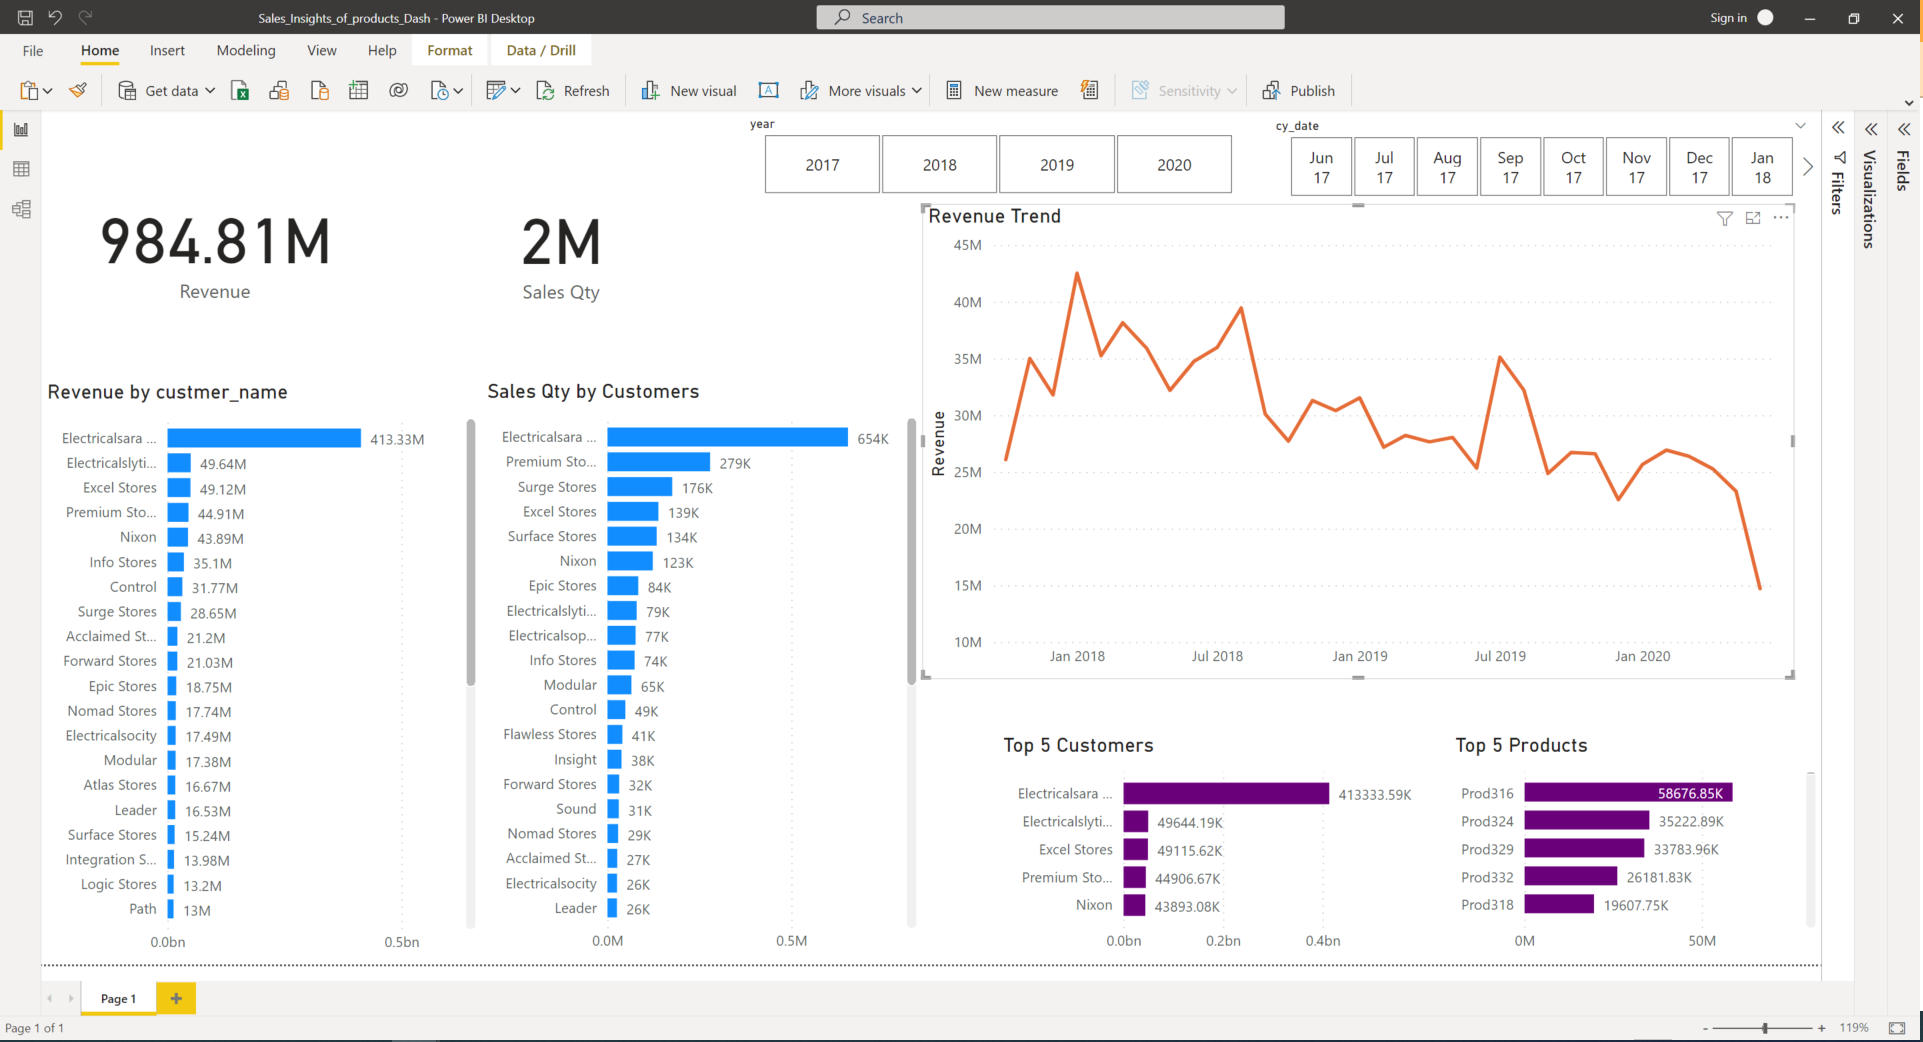

Layout of this report page (visuals, bound fields, positions):
{"tool":"powerbi","page":{"name":"Page 1","canvas":[1280,720],"ordinal":0},"visuals":[{"type":"card","fields":{"Values":["BaseMeasures.Revenue"]},"box":[0,0,292.5,227.3],"z":0},{"type":"card","fields":{"Values":["BaseMeasures.Sales Qty"]},"box":[292.7,1.5,291.2,226],"z":1000},{"type":"barChart","fields":{"Category":["sales customers.custmer_name"],"Y":["BaseMeasures.Revenue"]},"box":[0,227.7,292.4,492.5],"z":2000},{"type":"clusteredBarChart","title":"Sales Qty by Customers","fields":{"Category":["sales customers.custmer_name"],"Y":["BaseMeasures.Sales Qty"]},"box":[292.4,227.7,292.4,492.5],"z":3000},{"type":"slicer","fields":{"Values":["sales date.year"]},"box":[583.9,0,351.1,76.8],"z":4000},{"type":"slicer","fields":{"Values":["sales date.cy_date"]},"box":[929,1.8,350.7,77],"z":5000},{"type":"clusteredBarChart","title":"Top 5 Customers","fields":{"Category":["sales customers.custmer_name"],"Y":["BaseMeasures.Revenue"]},"box":[584.5,525.2,371.1,194.8],"z":6000},{"type":"clusteredBarChart","title":"Top 5 Products","fields":{"Y":["BaseMeasures.Revenue"],"Category":["sales transactions.product_code"]},"box":[955.6,525.2,313.5,194.8],"z":7000},{"type":"lineChart","title":"Revenue Trend","fields":{"Y":["BaseMeasures.Revenue"],"Category":["sales date.cy_date"]},"box":[608.4,93.9,647.4,400.3],"z":7001}]}

Visuals, with their boxes on the page's 1280x720 design canvas (x1, y1, x2, y2). These are canvas units, not pixel positions in the 1923x1042 screenshot, which may show the page scaled, cropped or inside an application window:
card - BaseMeasures.Revenue: [0,0,292,227]
card - BaseMeasures.Sales Qty: [293,2,584,228]
barChart - sales customers.custmer_name x BaseMeasures.Revenue: [0,228,292,720]
"Sales Qty by Customers" clusteredBarChart: [292,228,585,720]
slicer - sales date.year: [584,0,935,77]
slicer - sales date.cy_date: [929,2,1280,79]
"Top 5 Customers" clusteredBarChart: [584,525,956,720]
"Top 5 Products" clusteredBarChart: [956,525,1269,720]
"Revenue Trend" lineChart: [608,94,1256,494]
